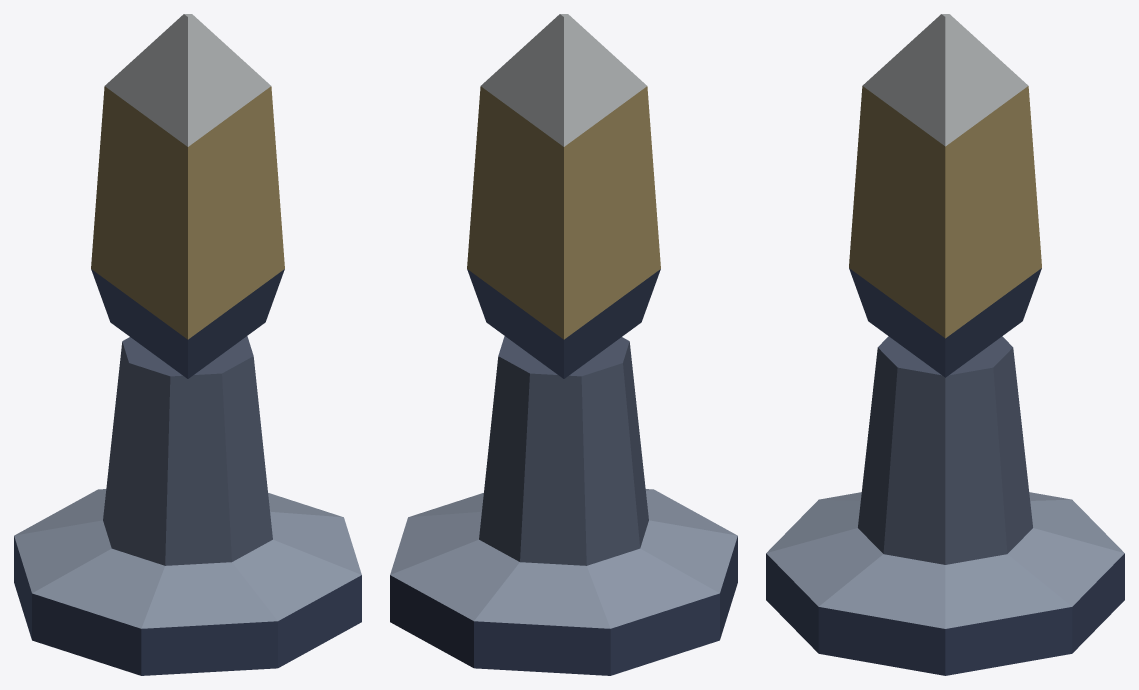
The model's file is crystal-prism.glb.
3 views of the same model, side by side, from view 1: azimuth 30°, elevation 25°; view 2: azimuth 150°, elevation 25°; view 3: azimuth 270°, elevation 25° (orthographic).
Parts seen in each view (by area): view 1: crystal-prism__body; view 2: crystal-prism__body; view 3: crystal-prism__body.
Part boxes in pixels (x1,y1,x2,y2): crystal-prism__body: (14, 14, 361, 675); crystal-prism__body: (390, 14, 737, 675); crystal-prism__body: (766, 14, 1124, 675).
Bounding box in the file's own units: 0.9 × 1.62 × 0.9.
